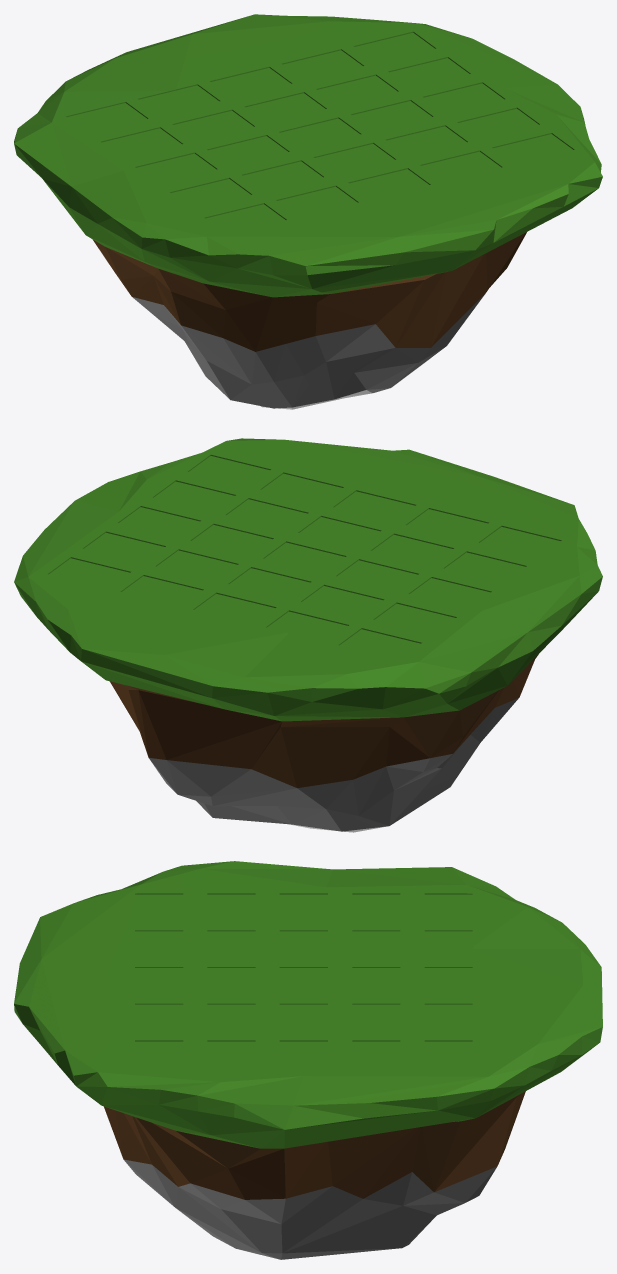
Rendered from base world.fbx.
The picture shows the model from 3 angles, top to bottom: view 1: azimuth 30°, elevation 25°; view 2: azimuth 150°, elevation 25°; view 3: azimuth 270°, elevation 25°; orthographic projection. The views are drawn at different scales.
Parts seen in each view (by area): view 1: Cube.071; view 2: Cube.071; view 3: Cube.071.
Part boxes in pixels (<box>): Cube.071: <box>14,14,602,409</box>; Cube.071: <box>14,438,602,832</box>; Cube.071: <box>14,861,602,1259</box>.
Size of the model in its own units: 6743 by 3490 by 6806.
